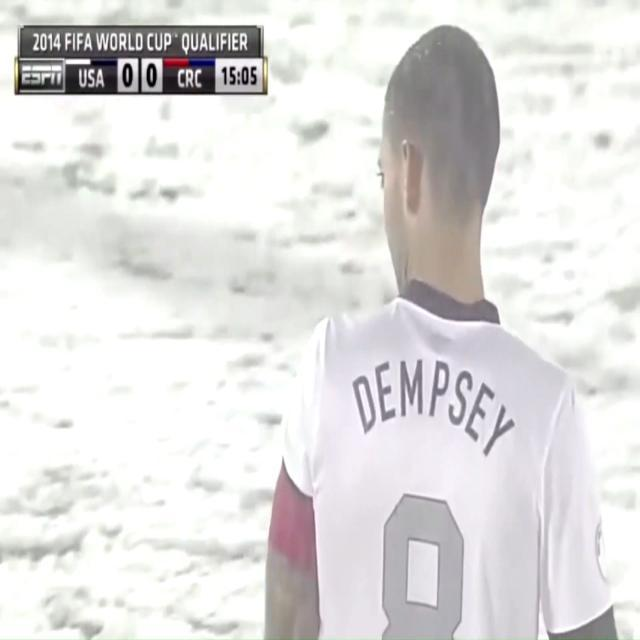player: (215, 0, 623, 640)
